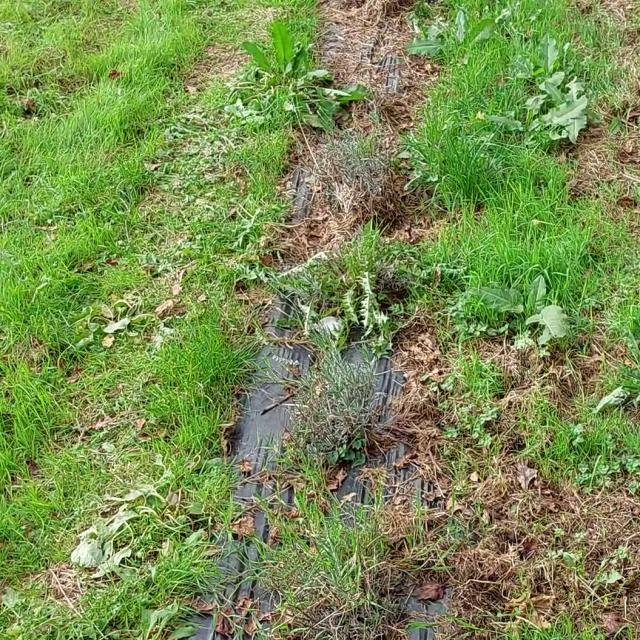organic waste: (49, 456, 189, 575), (220, 15, 369, 125), (472, 250, 586, 356), (494, 77, 615, 163), (64, 285, 174, 368), (398, 12, 498, 70), (523, 26, 589, 88)
